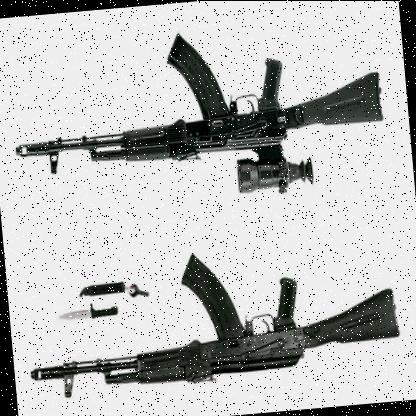rifle: (0, 0, 390, 225), (31, 230, 404, 416)
